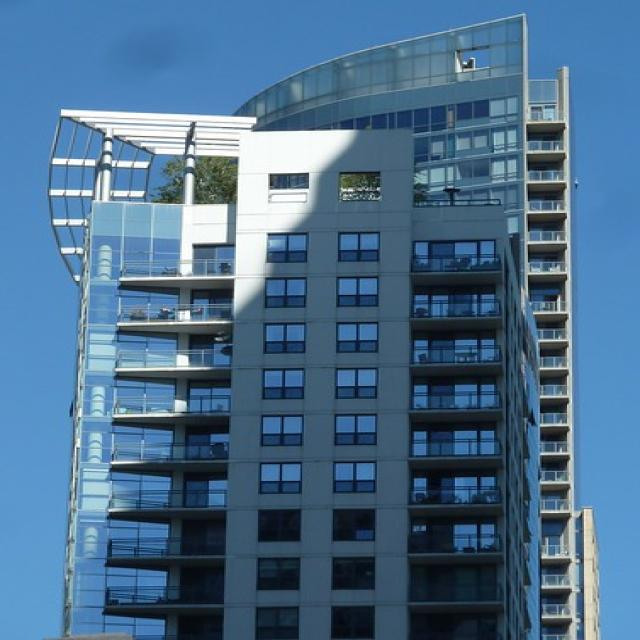building: (33, 11, 605, 640)
